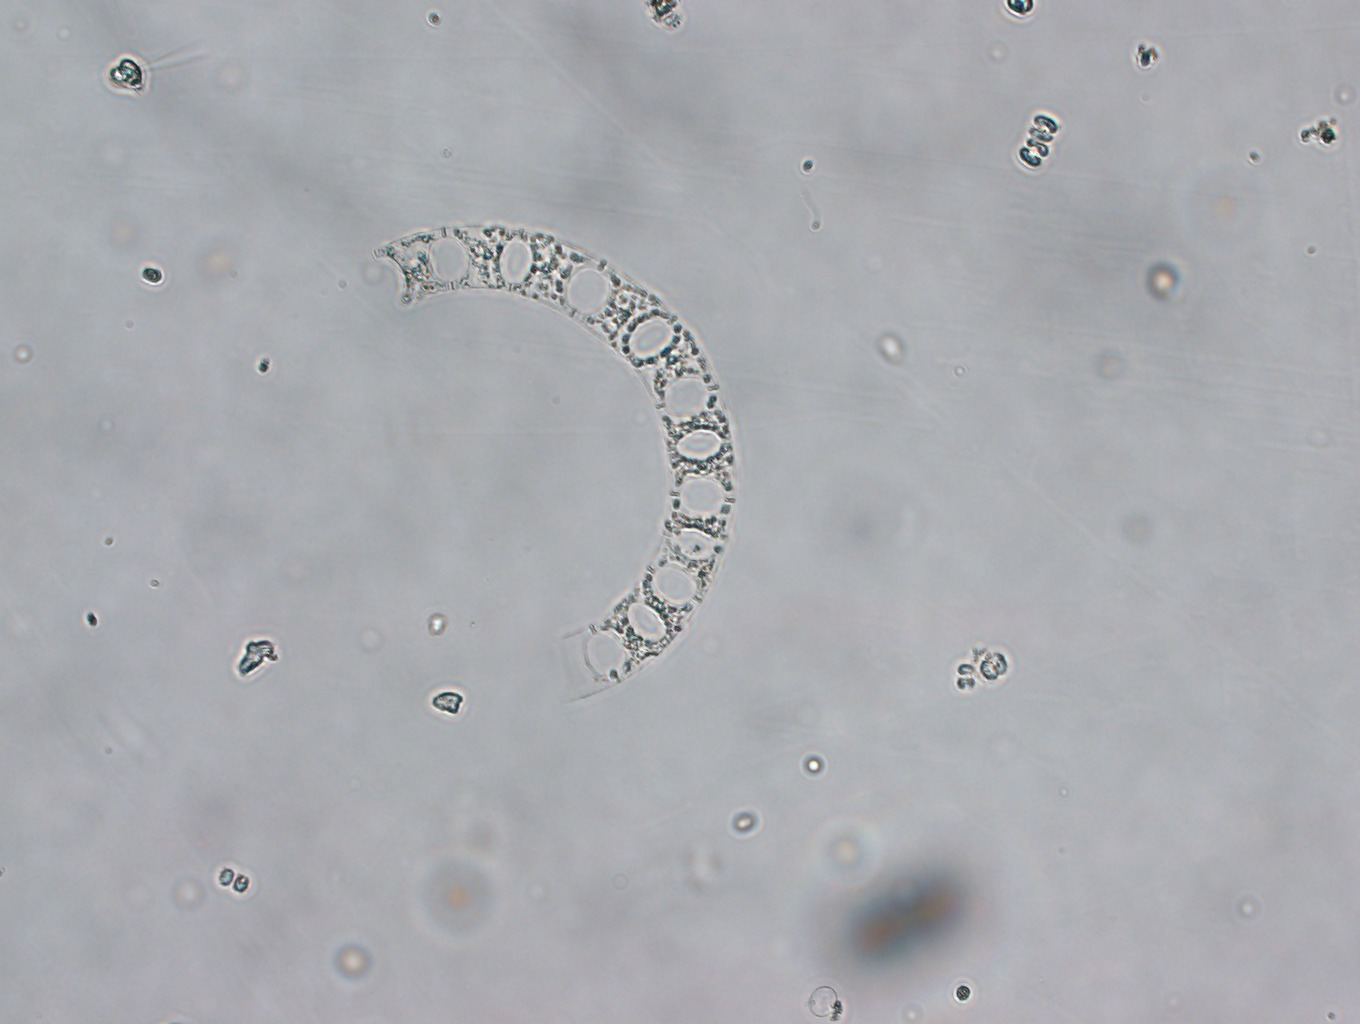eucampia: (366, 213, 746, 701)
